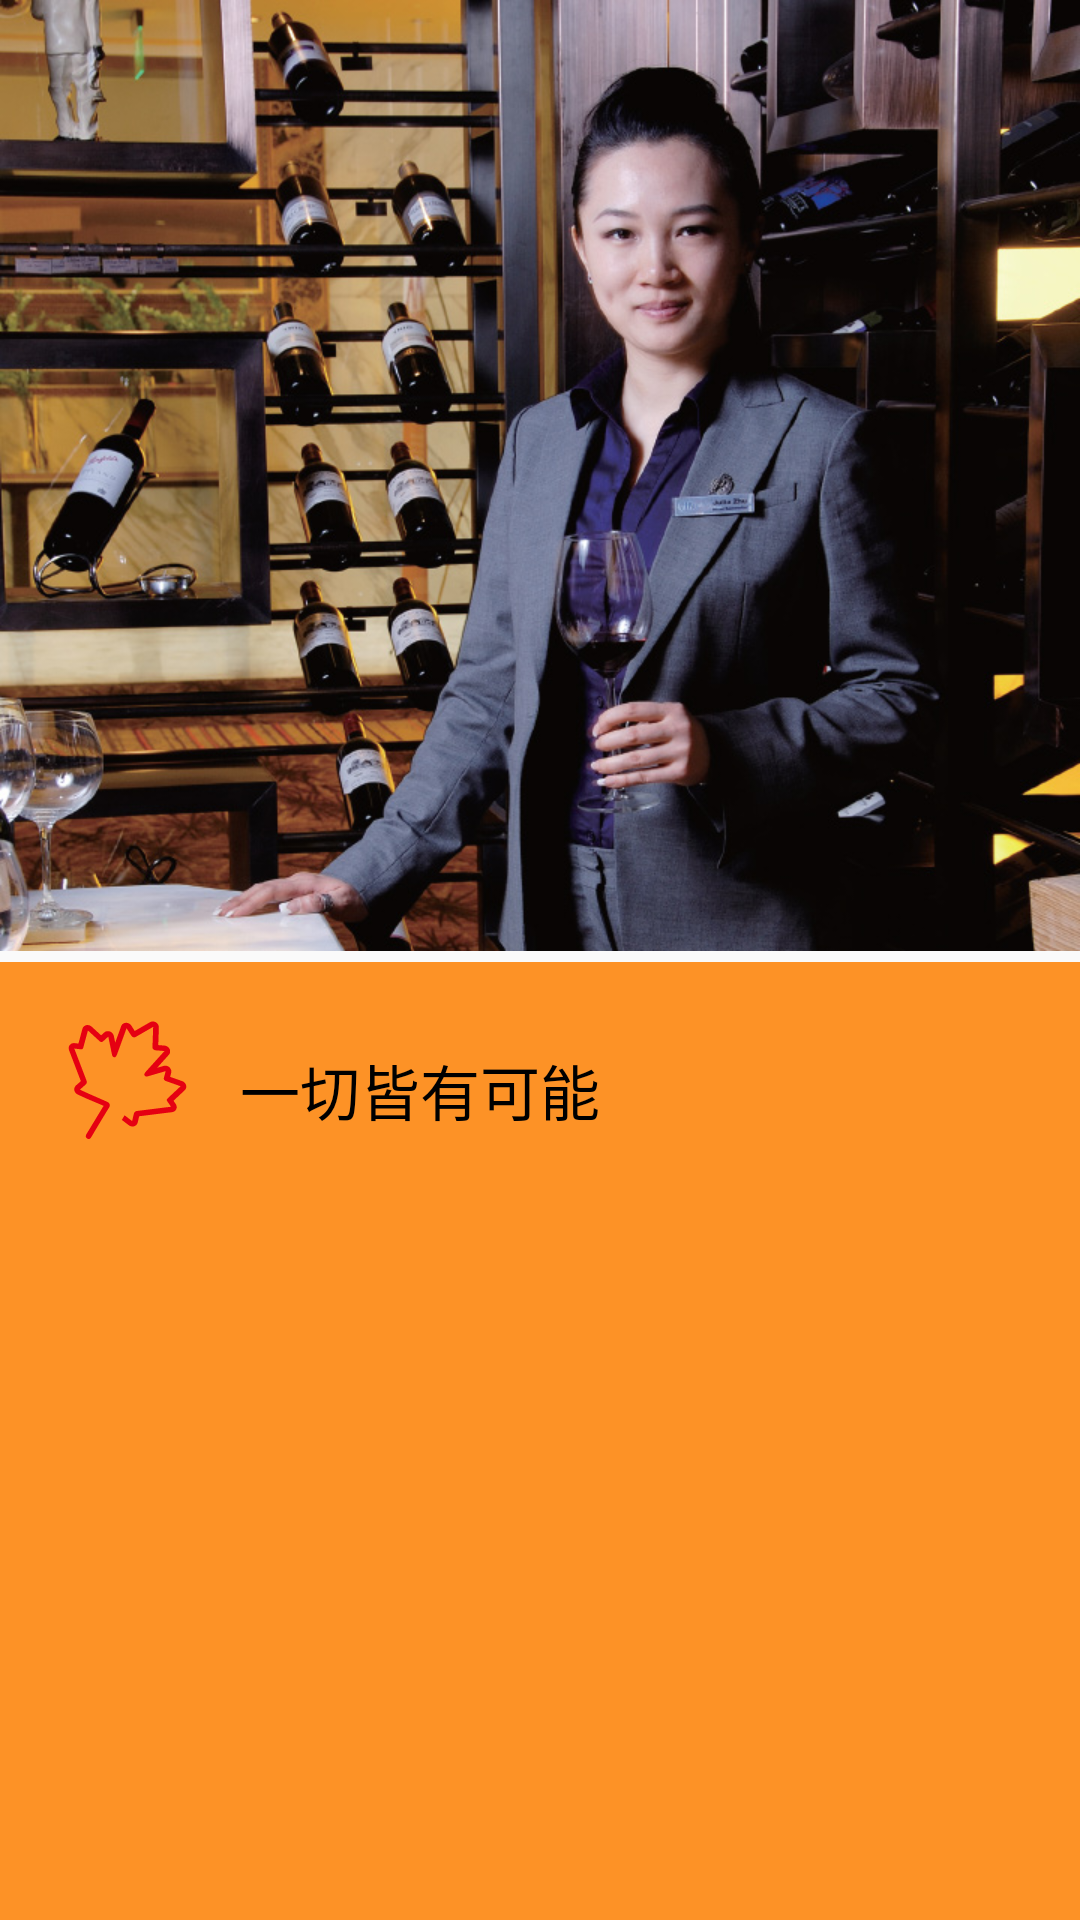

Locate icon controls on the screen. Image size 1080px x 1920px, boxes as (x1, y1, x2, y2).
leaf: (68, 1021, 187, 1139)
